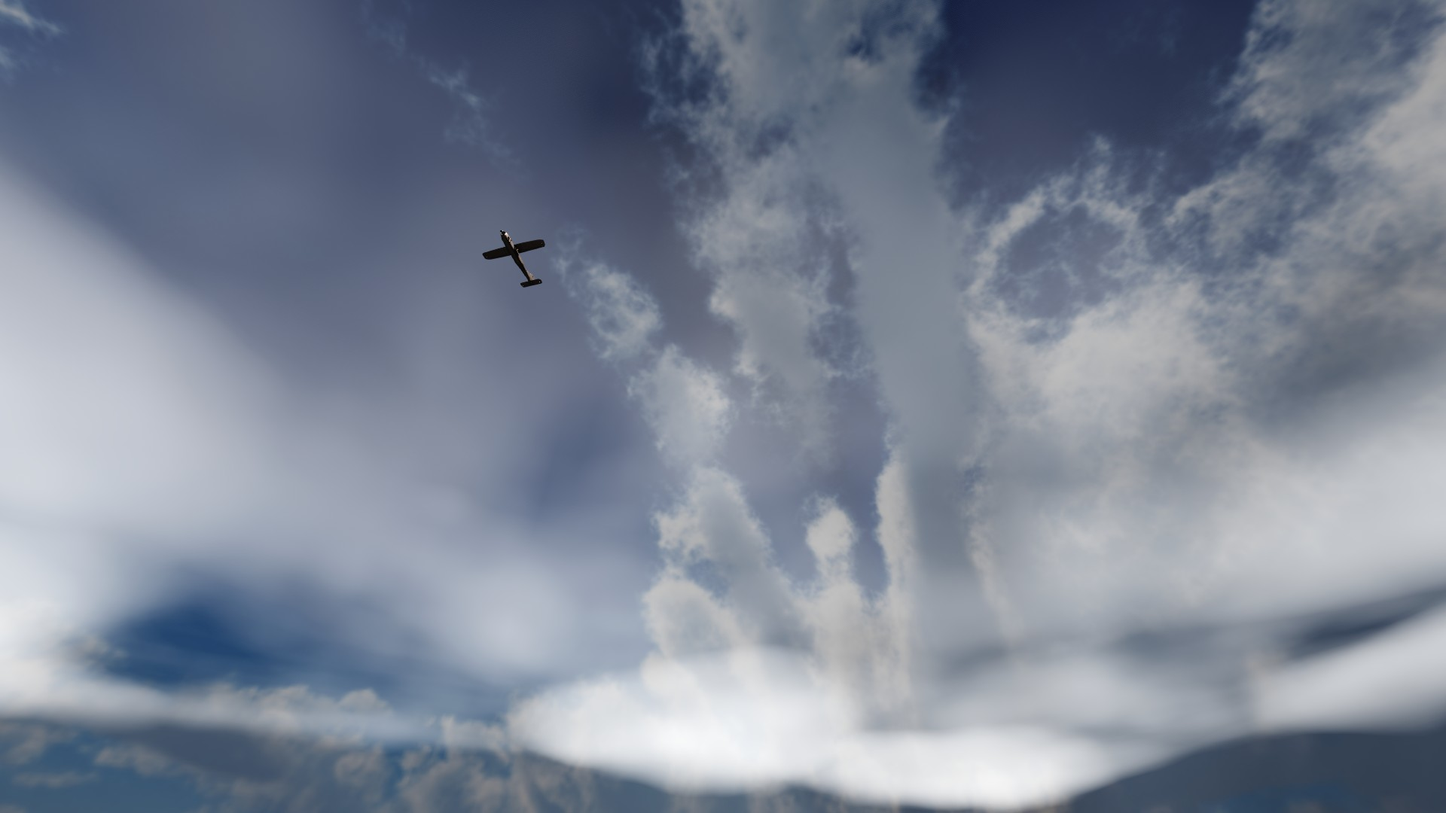drone_other: (482, 230, 545, 288)
